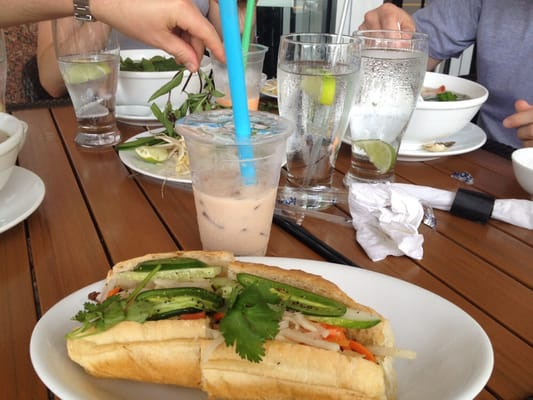pizza: (175, 109, 295, 258), (275, 32, 362, 214), (343, 30, 429, 179), (58, 43, 123, 149), (0, 110, 28, 195), (244, 43, 268, 112)
soup: (62, 250, 401, 400)
sushi: (403, 72, 490, 149), (511, 147, 533, 197)
